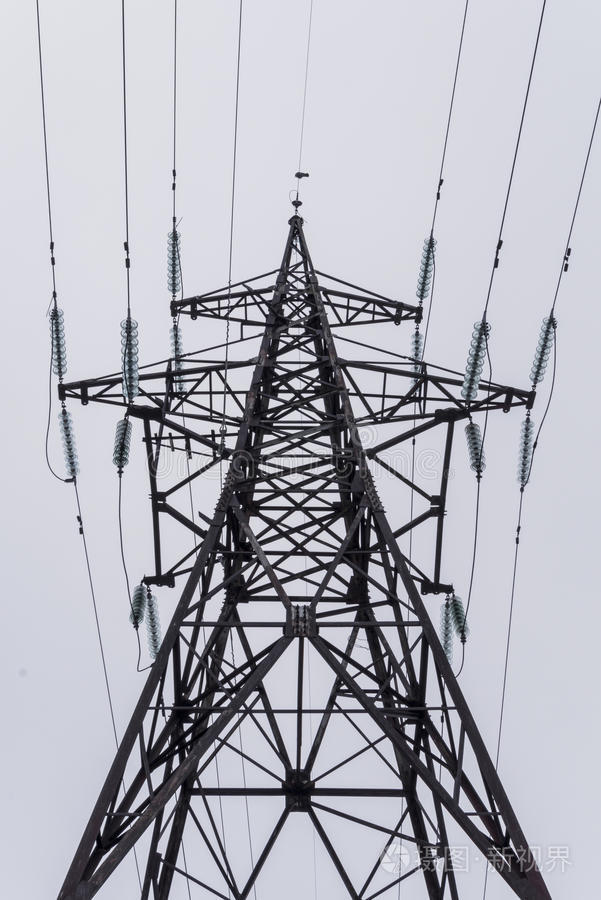insulator: (457, 319, 490, 401), (118, 313, 143, 397), (526, 318, 553, 386), (437, 593, 467, 654), (53, 409, 80, 476), (45, 304, 69, 379), (514, 412, 538, 487), (414, 234, 438, 300), (461, 420, 488, 477), (141, 596, 161, 662), (167, 326, 189, 378), (165, 228, 182, 295), (110, 418, 134, 464), (125, 584, 146, 629), (410, 327, 428, 367)
